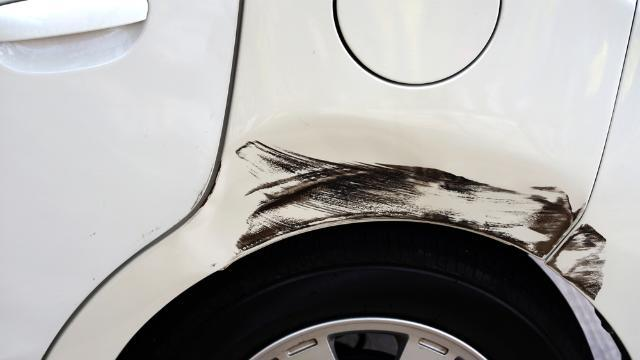scratch: (230, 134, 589, 259), (543, 221, 611, 301)
